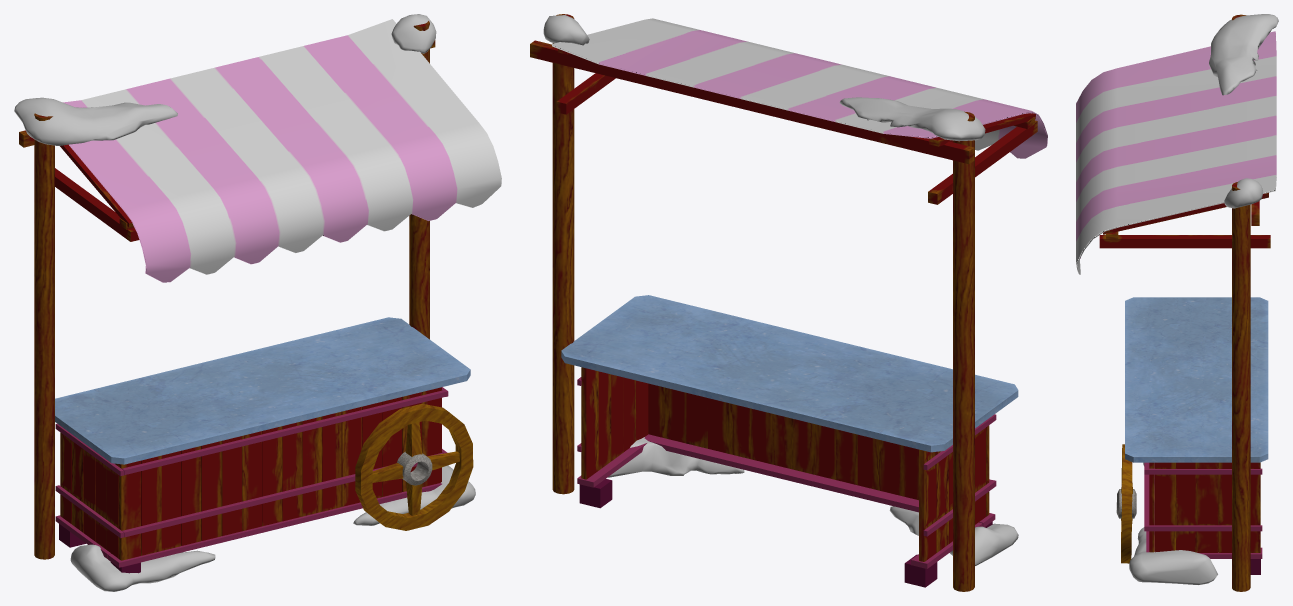
The model's file is Stall01.fbx.
The picture shows the model from 3 angles, left to right: view 1: azimuth 30°, elevation 25°; view 2: azimuth 150°, elevation 25°; view 3: azimuth 270°, elevation 25°; orthographic projection. The views are drawn at different scales.
Parts seen in each view (by area): view 1: Stall01_Roof, Stall01_Table01, Stall01_Wheel01, Stall01_Snow01, Stall01_Snow02; view 2: Stall01_Table01, Stall01_Roof, Stall01_Snow01, Stall01_Snow02; view 3: Stall01_Roof, Stall01_Table01, Stall01_Snow01, Stall01_Snow02, Stall01_Wheel01.
Part boxes in pixels (left/top/right/bottom): Stall01_Roof: left=19, top=19, right=501, bottom=559; Stall01_Table01: left=55, top=317, right=470, bottom=573; Stall01_Wheel01: left=355, top=403, right=473, bottom=530; Stall01_Snow01: left=14, top=14, right=436, bottom=145; Stall01_Snow02: left=70, top=465, right=475, bottom=591; Stall01_Table01: left=561, top=295, right=1018, bottom=587; Stall01_Roof: left=530, top=14, right=1047, bottom=591; Stall01_Snow01: left=543, top=15, right=985, bottom=141; Stall01_Snow02: left=607, top=437, right=1018, bottom=565; Stall01_Roof: left=1076, top=14, right=1276, bottom=591; Stall01_Table01: left=1125, top=297, right=1268, bottom=574; Stall01_Snow01: left=1209, top=14, right=1278, bottom=208; Stall01_Snow02: left=1129, top=462, right=1217, bottom=584; Stall01_Wheel01: left=1116, top=444, right=1136, bottom=563.
Bounding box in the file's own units: 2.32 × 2.4 × 1.08.
2 materials, 1 textured.
